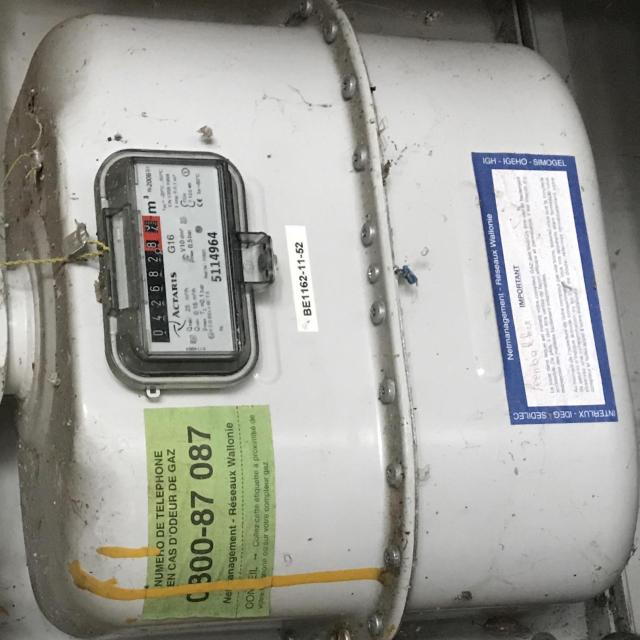gaz_meter: (124, 152, 237, 358)
indication: (138, 214, 174, 345)
